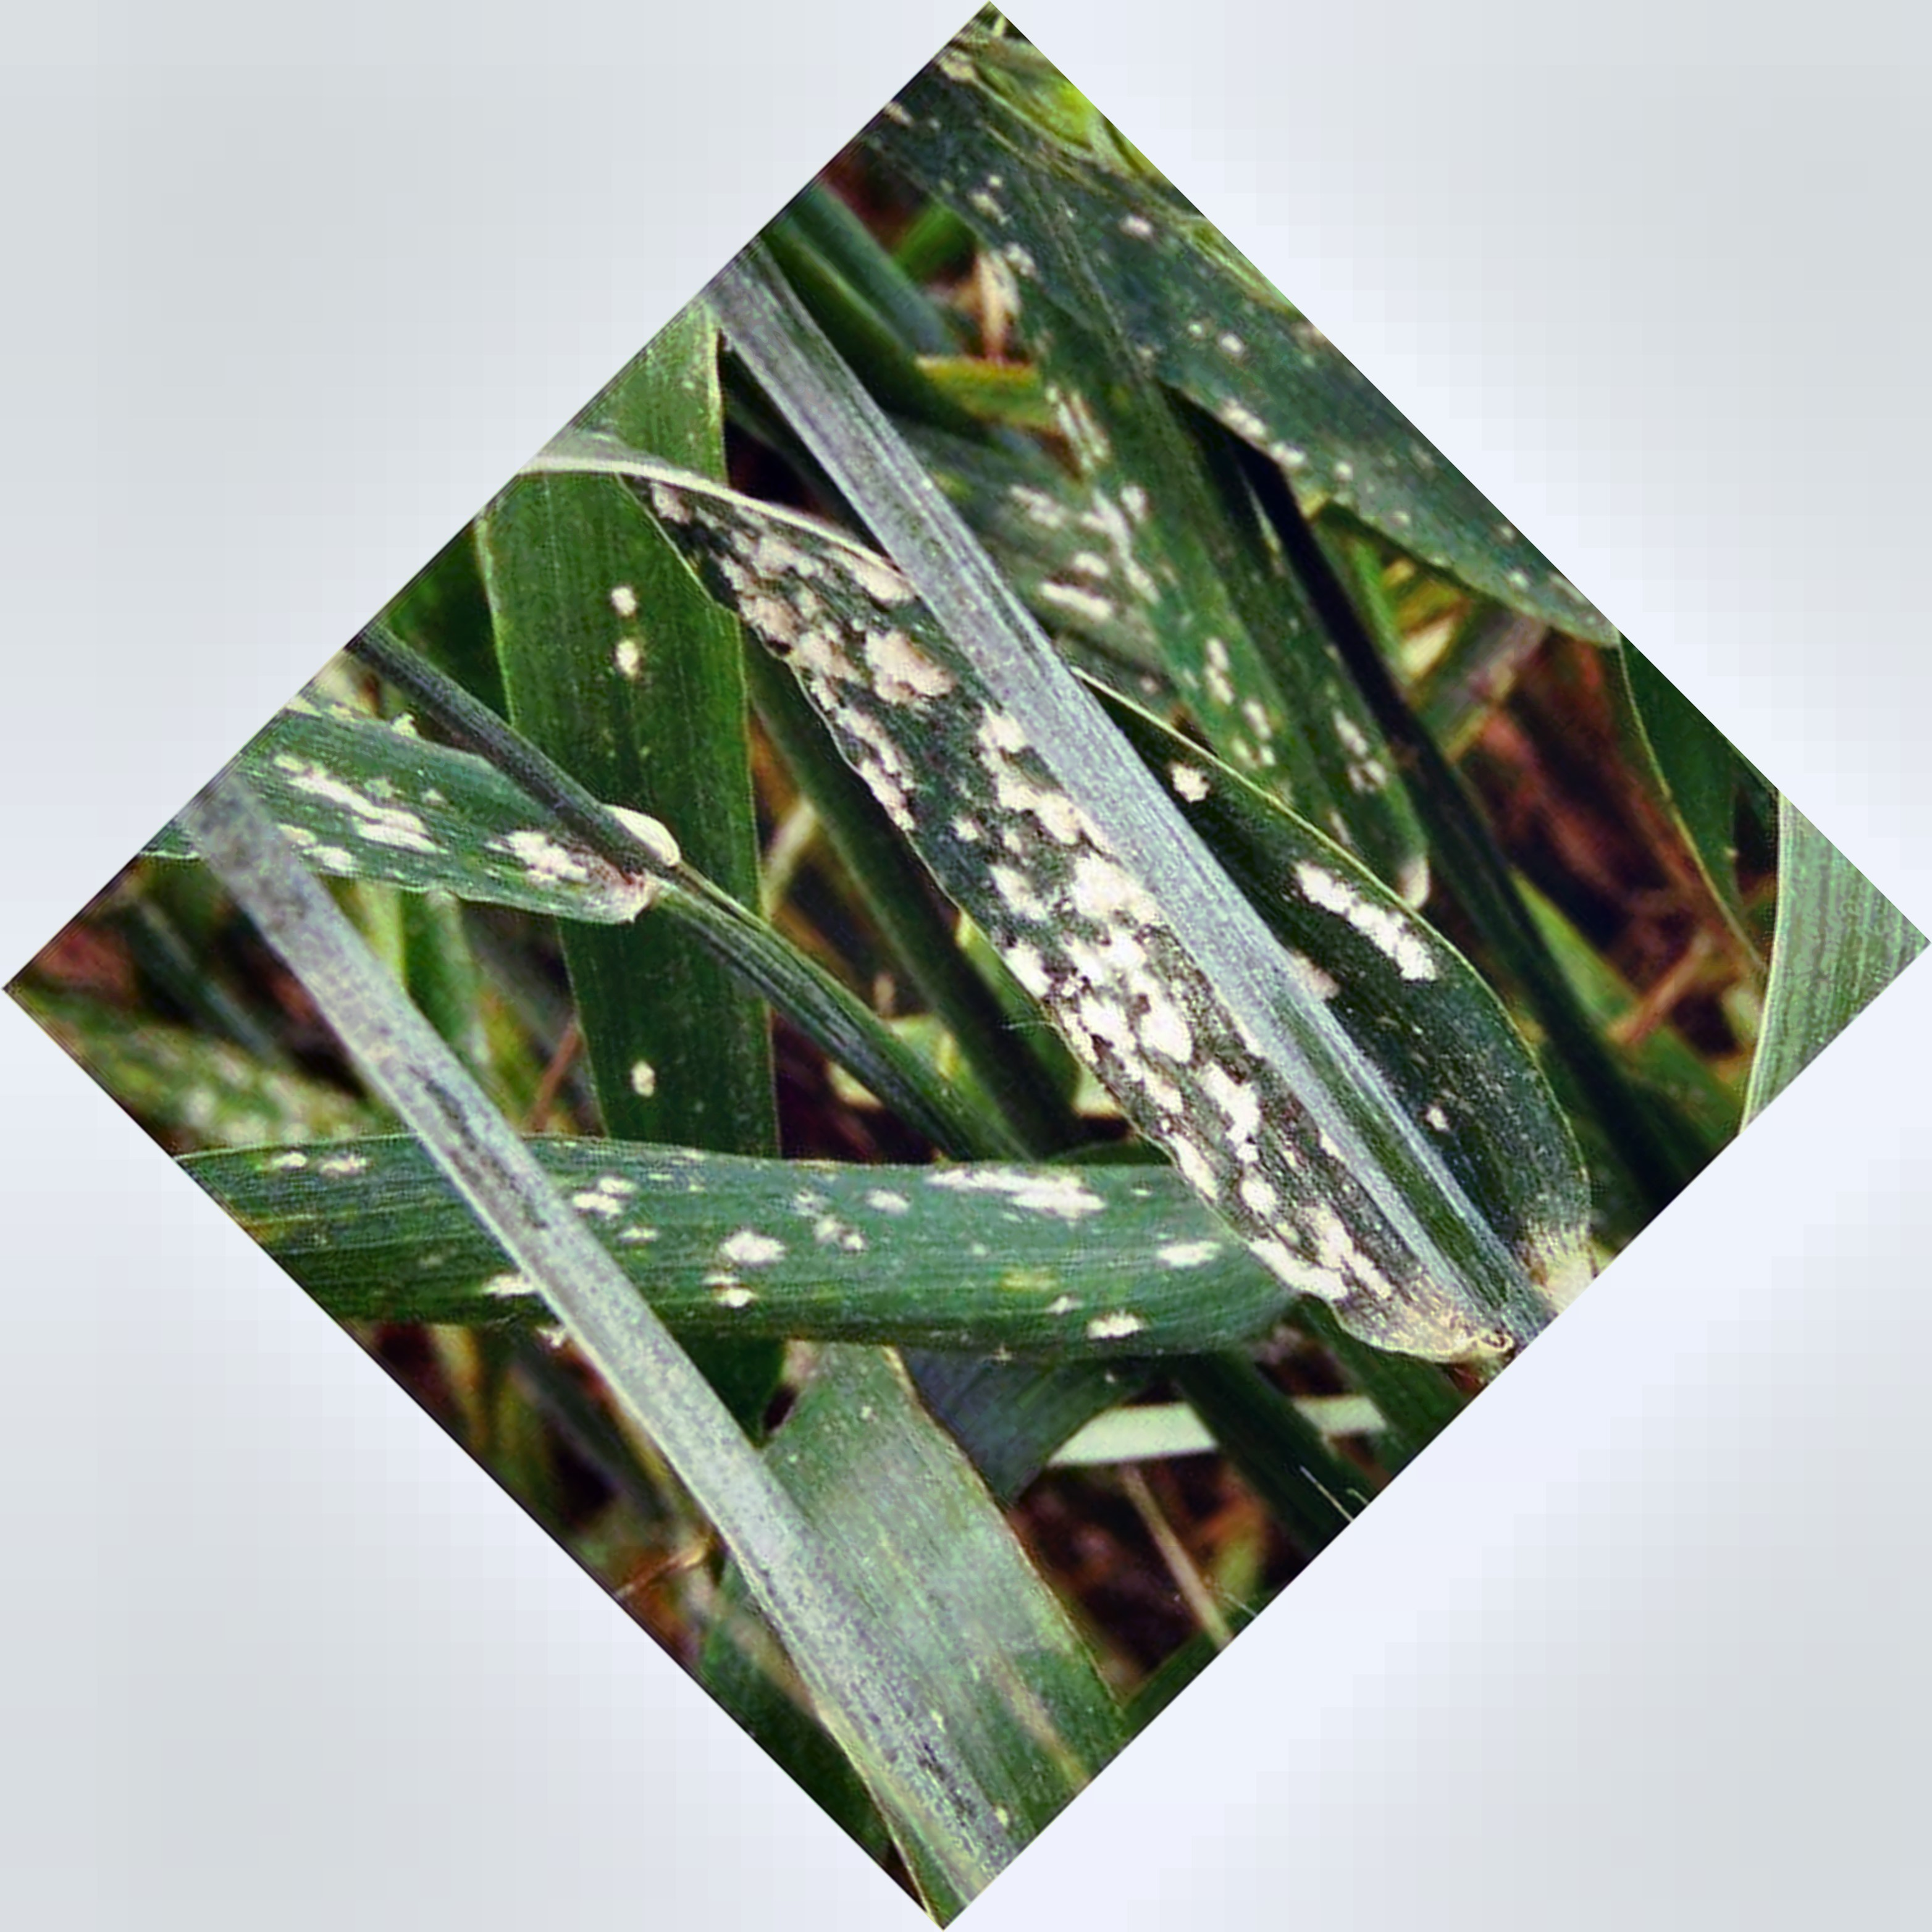Powdery Mildew: (681, 527, 1334, 1231)
